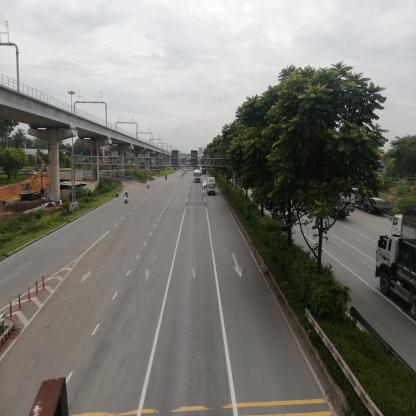car: (204, 182, 207, 189)
motorbike: (126, 192, 130, 205), (116, 189, 121, 198), (149, 182, 152, 190)
truck: (377, 237, 416, 311), (391, 204, 416, 240), (207, 178, 217, 197), (194, 171, 202, 183)
